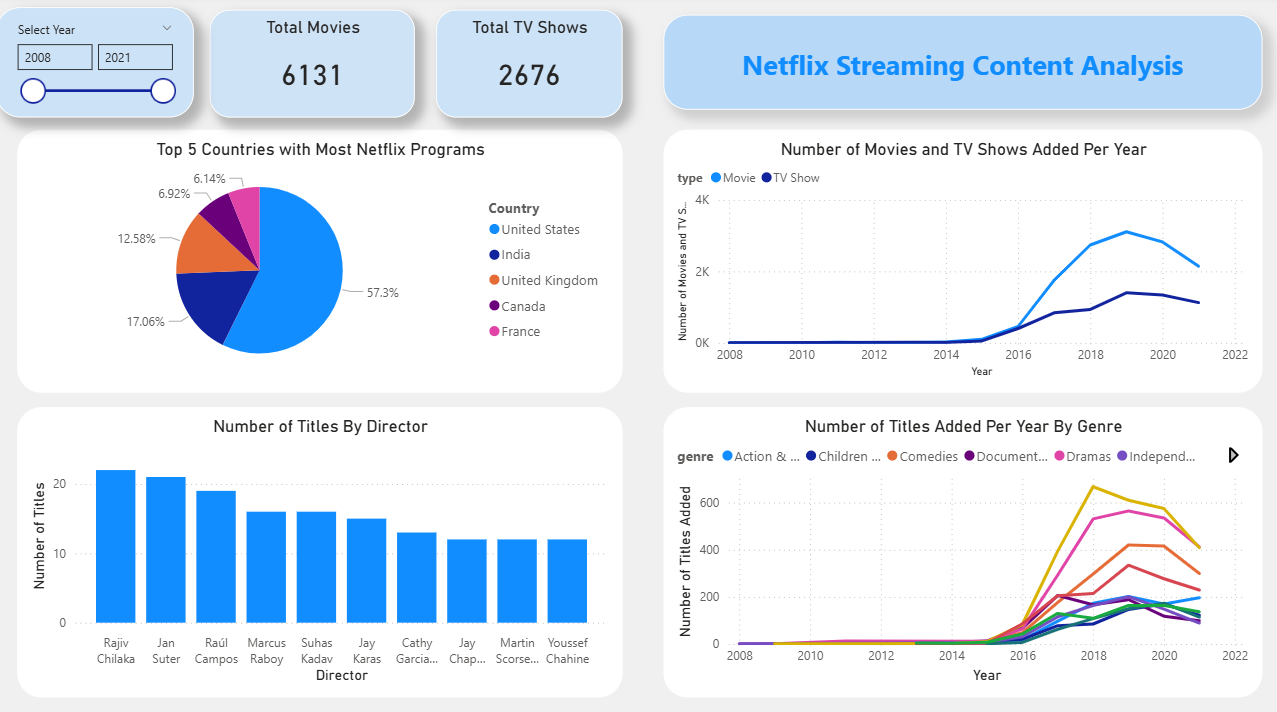

The dashboard page shown, as its layout file describes it:
{"tool":"powerbi","page":{"name":"Page 1","canvas":[1280,720],"ordinal":0},"visuals":[{"type":"pieChart","title":"Top 5 Countries with Most Netflix Programs","fields":{"Category":["Query3.country"],"Y":["Query3.total_count"]},"box":[21.1,133.1,602.1,261.2],"z":0},{"type":"lineChart","title":"Number of Movies and TV Shows Added Per Year","fields":{"Category":["Query4.year_added"],"Y":["Query4.total_added"],"Series":["Query4.type"]},"box":[664.3,133.1,595.9,261.2],"z":1000},{"type":"lineChart","title":"Number of Titles Added Per Year By Genre","fields":{"Y":["Query4 a.total_added"],"Category":["Query4 a.year_added"],"Series":["Query4 a.genre"]},"box":[664.3,409.3,595.9,288.6],"z":2000},{"type":"card","title":"Total Movies","fields":{"Values":["Query1.total_added"]},"box":[212.7,13.7,204,107],"z":3000},{"type":"clusteredColumnChart","title":"Number of Titles By Director","fields":{"Category":["Query5.director"],"Y":["Query5.num_titles"]},"box":[21.1,409.3,602.1,288.6],"z":4000},{"type":"card","title":"Total TV Shows","fields":{"Values":["Query1.total_added"]},"box":[437.9,13.7,185.3,107],"z":5000},{"type":"textbox","box":[664.3,18.7,595.9,94.5],"z":6000},{"type":"slicer","fields":{"Values":["Query5.year_added"]},"box":[0,11.2,196.5,109.5],"z":7000}]}

Visuals, with their boxes in screenshot pixels (x1, y1, x2, y2), scaled from the page's 1280x720 canvas onto the 1277x712 screenshot:
"Top 5 Countries with Most Netflix Programs" pieChart: (21,132,622,390)
"Number of Movies and TV Shows Added Per Year" lineChart: (663,132,1257,390)
"Number of Titles Added Per Year By Genre" lineChart: (663,405,1257,690)
"Total Movies" card: (212,14,416,119)
"Number of Titles By Director" clusteredColumnChart: (21,405,622,690)
"Total TV Shows" card: (437,14,622,119)
textbox: (663,18,1257,112)
slicer - Query5.year_added: (0,11,196,119)
